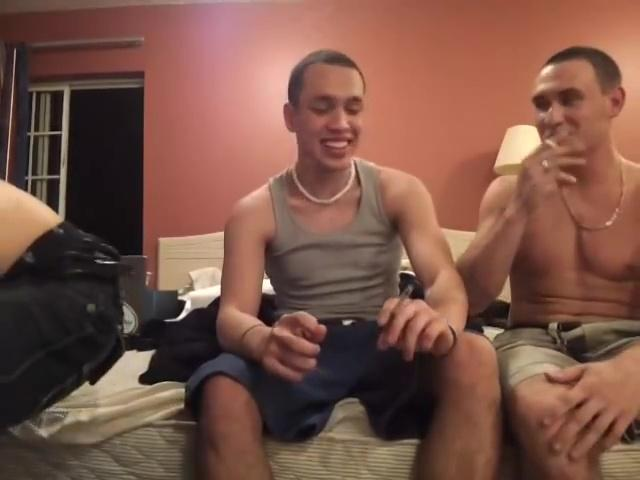cigarette: (390, 283, 416, 312), (541, 136, 568, 152)
